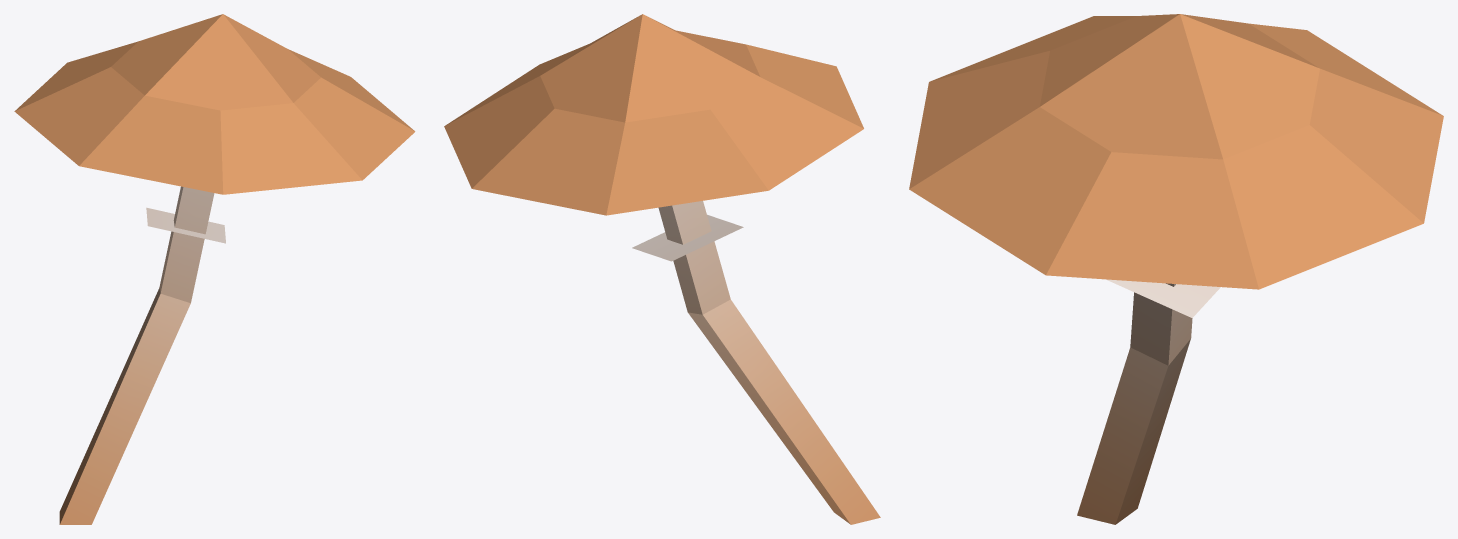
Rendered from Mushroom_i_02.fbx.
3 renders of one model, left to right at view 1: azimuth 30°, elevation 25°; view 2: azimuth 150°, elevation 25°; view 3: azimuth 270°, elevation 25°, orthographic. The views are drawn at different scales.
Parts seen in each view (by area): view 1: Mushroom_i_02; view 2: Mushroom_i_02; view 3: Mushroom_i_02.
Boxes of the visible parts, x1,y1,x2,y2 form: Mushroom_i_02: [14, 14, 415, 524]; Mushroom_i_02: [444, 14, 880, 524]; Mushroom_i_02: [909, 14, 1443, 524].
Bounding box in the file's own units: 25.74 × 31.22 × 24.57.
